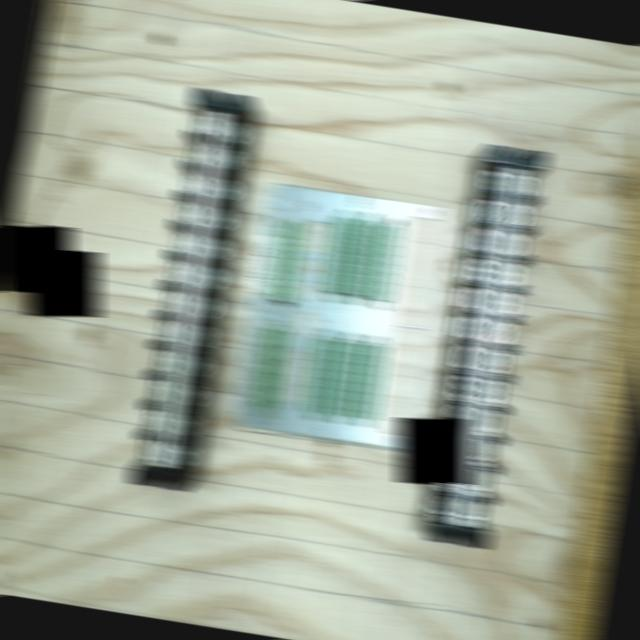Flathead_Block: (130, 87, 252, 492)
Phillips_Block: (429, 144, 549, 549)
Terminal_1: (269, 219, 305, 303), (253, 326, 288, 411)
Terminal_2: (353, 342, 388, 422), (304, 336, 338, 416), (329, 339, 363, 419), (323, 215, 357, 294), (347, 218, 381, 297)
